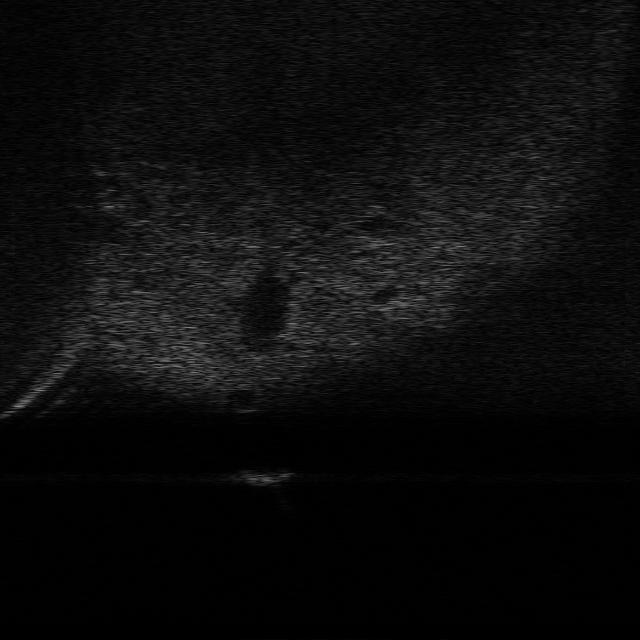cube: (230, 466, 292, 488)
